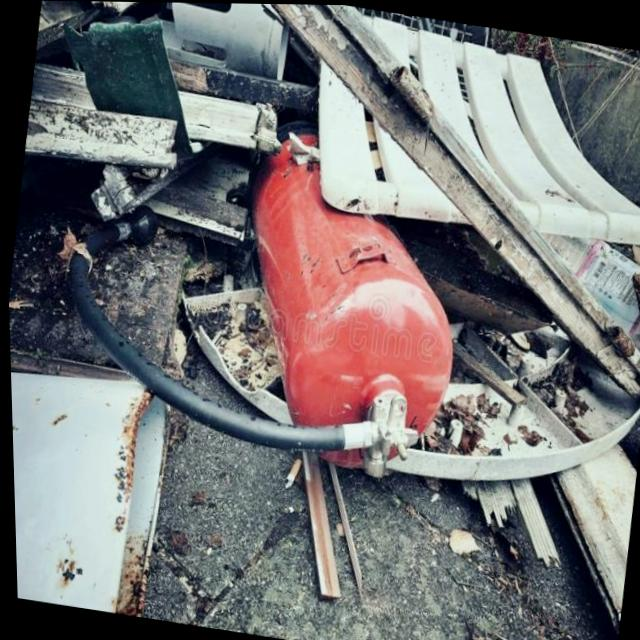FireExtinguisher: (30, 80, 487, 489)
